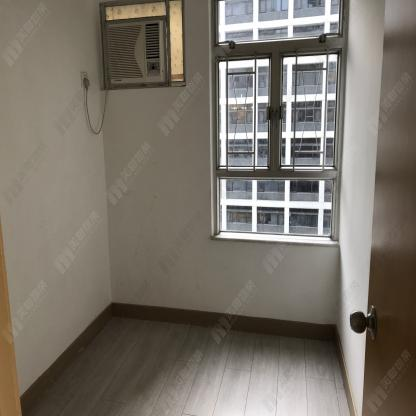AC: (110, 20, 165, 85)
